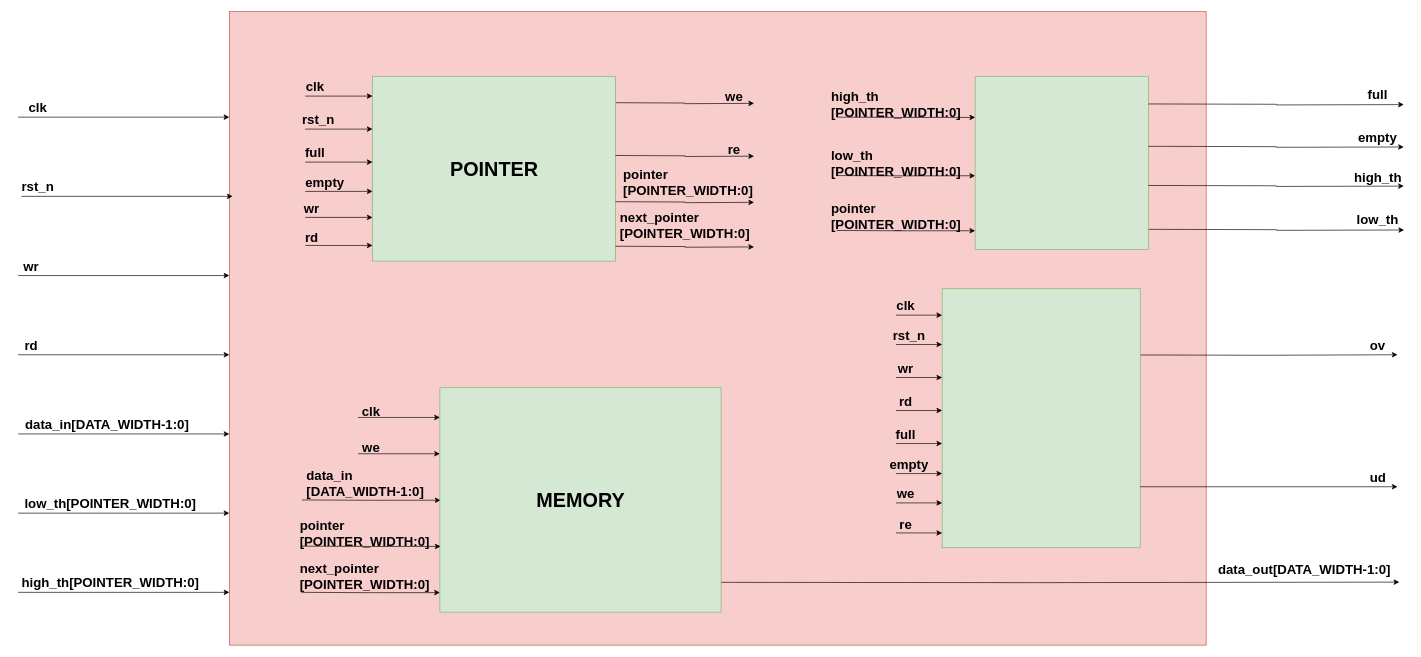
This 1421x657 diagram has some shape labels left out. Here are the shapes that lost their labels. From the top down, the centre of each, then its label:
the point at 1061,163: STATUS
the point at 1041,418: OV - UV
